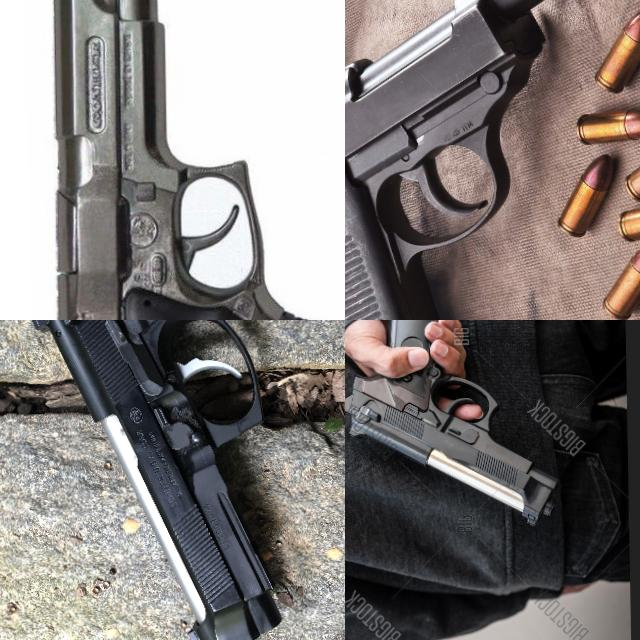handgun: (16, 320, 341, 640), (31, 0, 345, 320), (345, 0, 640, 320), (345, 320, 565, 534)
